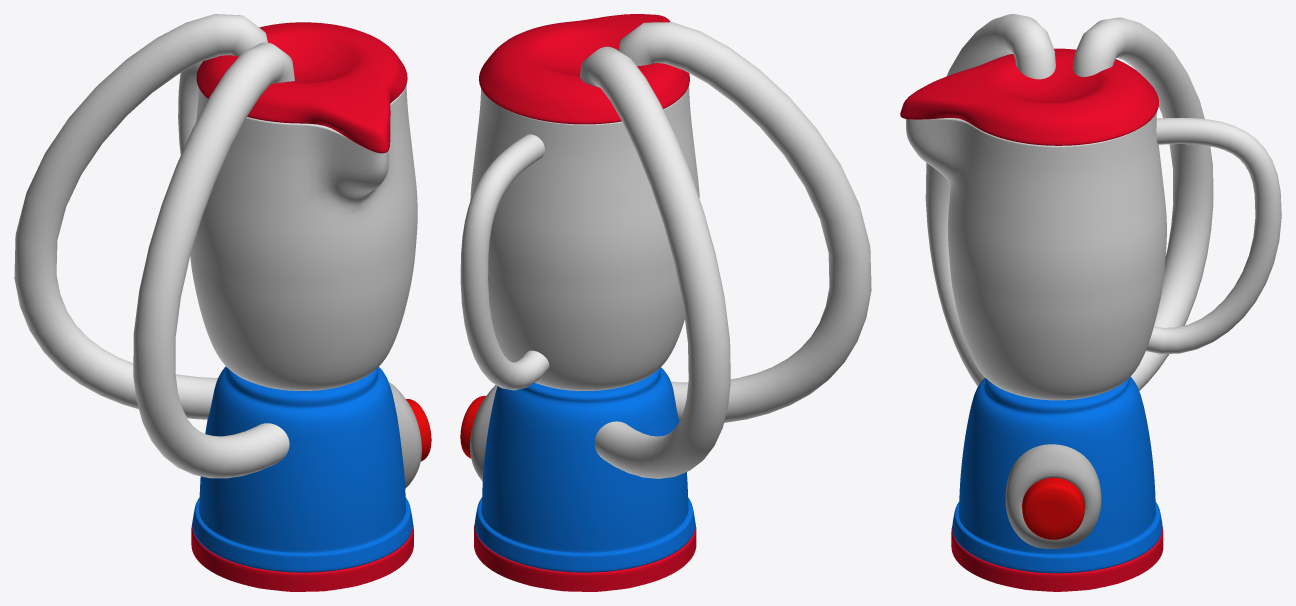
Rendered from BlenderV1.fbx.
3 renders of one model, left to right at view 1: azimuth 30°, elevation 25°; view 2: azimuth 150°, elevation 25°; view 3: azimuth 270°, elevation 25°, orthographic. The views are drawn at different scales.
Parts seen in each view (by area): view 1: Stakan, Cylinder, Ruchka.001, Ruchka.002, Krushka malya, Obrama, Ruchka, Knopka; view 2: Stakan, Cylinder, Ruchka.002, Ruchka.001, Krushka malya, Ruchka, Obrama, Knopka; view 3: Stakan, Cylinder, Krushka malya, Ruchka.001, Ruchka, Ruchka.002, Obrama, Knopka.
Boxes of the visible parts, box(x1,y1,x2,y2) form: Stakan: box(190, 84, 417, 390); Cylinder: box(191, 366, 413, 591); Ruchka.001: box(14, 14, 267, 419); Ruchka.002: box(133, 42, 294, 478); Krushka malya: box(196, 22, 407, 153); Obrama: box(388, 382, 421, 488); Ruchka: box(178, 61, 202, 155); Knopka: box(406, 399, 431, 461); Stakan: box(470, 86, 699, 390); Cylinder: box(474, 367, 696, 591); Ruchka.002: box(618, 22, 871, 422); Ruchka.001: box(580, 46, 730, 478); Krushka malya: box(479, 14, 689, 124); Ruchka: box(460, 134, 549, 390); Obrama: box(470, 385, 497, 481); Knopka: box(460, 395, 485, 458); Stakan: box(905, 113, 1166, 400); Cylinder: box(951, 376, 1163, 591); Krushka malya: box(900, 48, 1158, 145); Ruchka.001: box(1073, 17, 1213, 390); Ruchka: box(1146, 117, 1281, 353); Ruchka.002: box(925, 14, 1055, 386); Obrama: box(1005, 444, 1101, 548); Knopka: box(1022, 477, 1084, 539).
Size of the model in its own units: 347 by 514 by 354.
